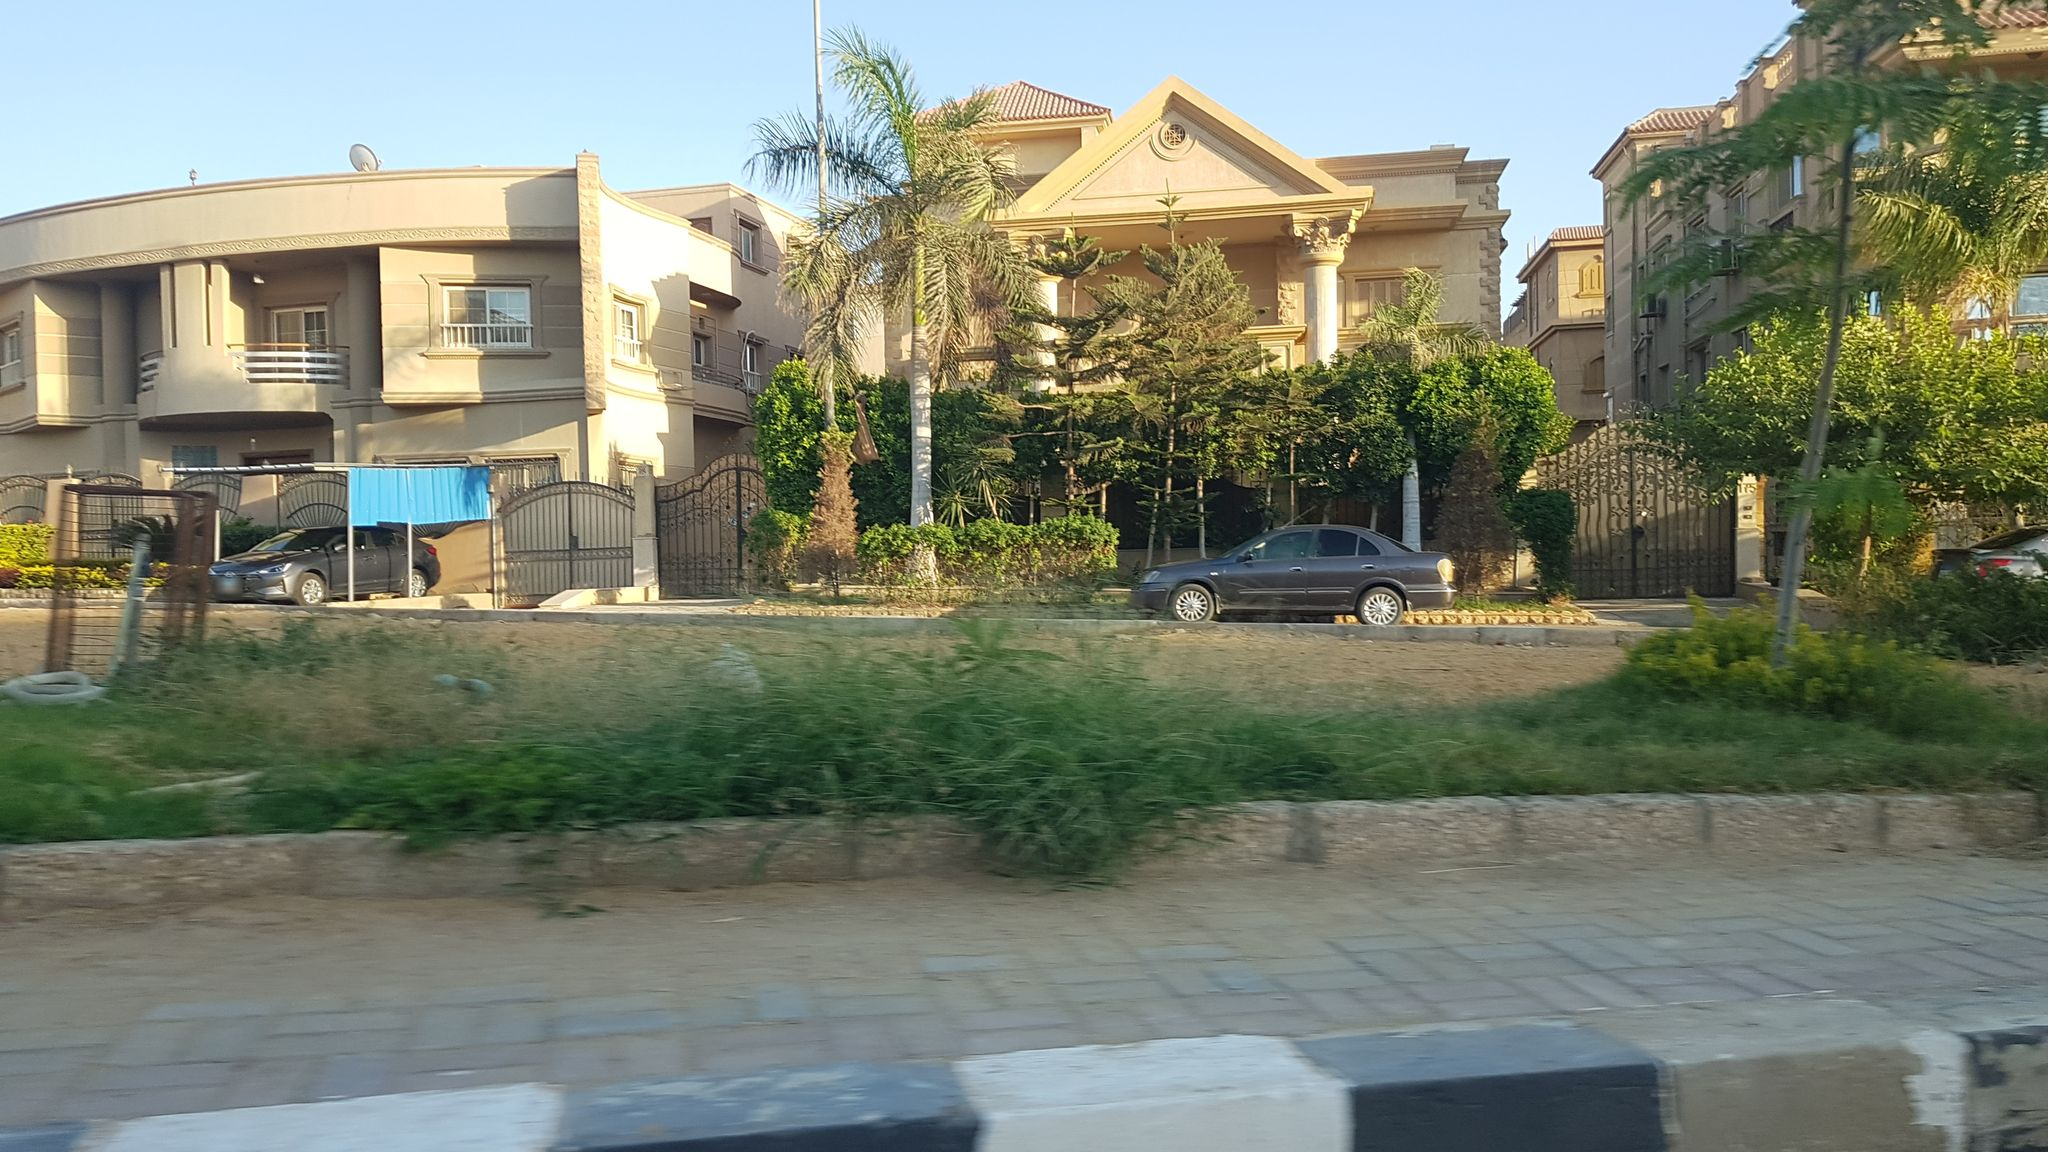car: (1139, 522, 1454, 627), (204, 525, 442, 608)
